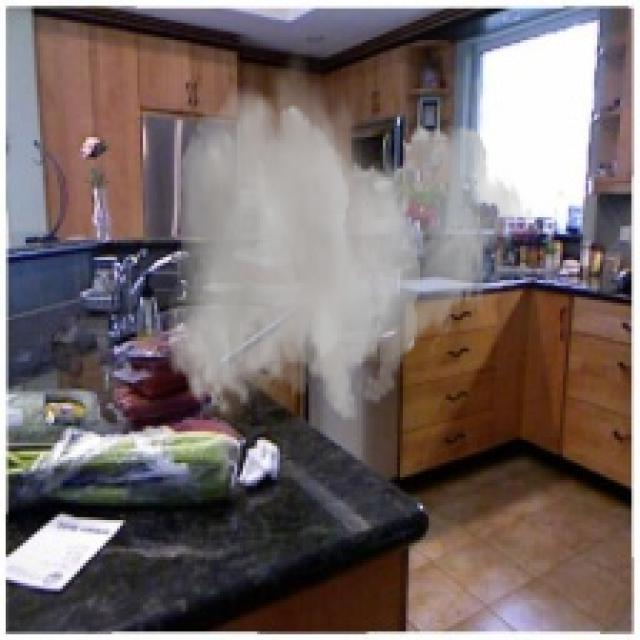smoke: (166, 43, 534, 423)
